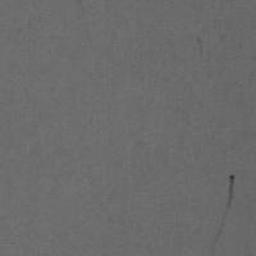Inclusion: (211, 172, 237, 246), (196, 33, 205, 58)
